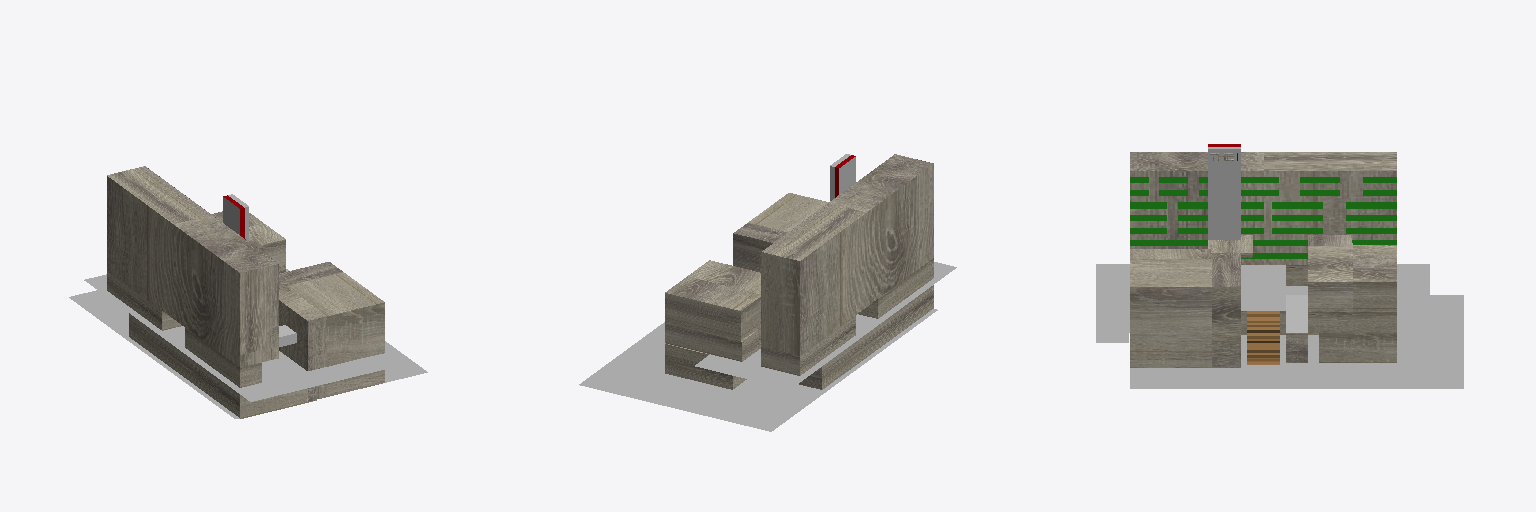
3 views of the same model, side by side, from view 1: azimuth 30°, elevation 25°; view 2: azimuth 150°, elevation 25°; view 3: azimuth 270°, elevation 25° (orthographic).
Visible parts, largest first — view 1: Cube, Cube.004, Plane, Cube.009, Plane.002, Cube.002, Cube.001, Cube.006, Cube.003; view 2: Cube, Plane.002, Cube.006, Cube.004, Plane, Cube.009, Cube.007, Cube.001, Cube.011, Cube.002, Cube.003; view 3: Cube, Cube.004, Plane.002, Plane, Cube.006, Cube.003, Cube.011, Cube.007, Cube.008, Plane.001, Cube.005, Cube.010.
Boxes of the visible parts, x1=… form: Cube: x1=107, y1=166, x2=278, y2=367; Cube.004: x1=279, y1=262, x2=384, y2=401; Plane: x1=84, y1=274, x2=412, y2=401; Cube.009: x1=129, y1=313, x2=316, y2=418; Plane.002: x1=69, y1=269, x2=427, y2=418; Cube.002: x1=185, y1=328, x2=261, y2=387; Cube.001: x1=107, y1=271, x2=181, y2=330; Cube.006: x1=211, y1=211, x2=285, y2=270; Cube.003: x1=223, y1=194, x2=248, y2=241; Cube: x1=761, y1=154, x2=933, y2=355; Plane.002: x1=579, y1=309, x2=937, y2=431; Cube.006: x1=665, y1=260, x2=760, y2=340; Cube.004: x1=733, y1=193, x2=828, y2=272; Plane: x1=695, y1=262, x2=956, y2=389; Cube.009: x1=799, y1=285, x2=933, y2=389; Cube.007: x1=665, y1=323, x2=760, y2=361; Cube.001: x1=761, y1=315, x2=855, y2=375; Cube.011: x1=665, y1=343, x2=746, y2=389; Cube.002: x1=858, y1=258, x2=933, y2=318; Cube.003: x1=830, y1=154, x2=855, y2=200; Cube: x1=1130, y1=152, x2=1396, y2=264; Cube.004: x1=1130, y1=249, x2=1240, y2=367; Plane.002: x1=1130, y1=295, x2=1463, y2=388; Plane: x1=1096, y1=264, x2=1429, y2=342; Cube.006: x1=1308, y1=235, x2=1396, y2=311; Cube.003: x1=1208, y1=144, x2=1240, y2=239; Cube.011: x1=1319, y1=333, x2=1396, y2=362; Cube.007: x1=1308, y1=312, x2=1396, y2=332; Cube.008: x1=1247, y1=311, x2=1279, y2=364; Plane.001: x1=1286, y1=295, x2=1307, y2=332; Cube.005: x1=1208, y1=235, x2=1252, y2=257; Cube.010: x1=1286, y1=333, x2=1307, y2=362.
Size of the model in its own units: 40.37 by 34.2 by 66.16.
Materials: 6 (2 with a texture image).